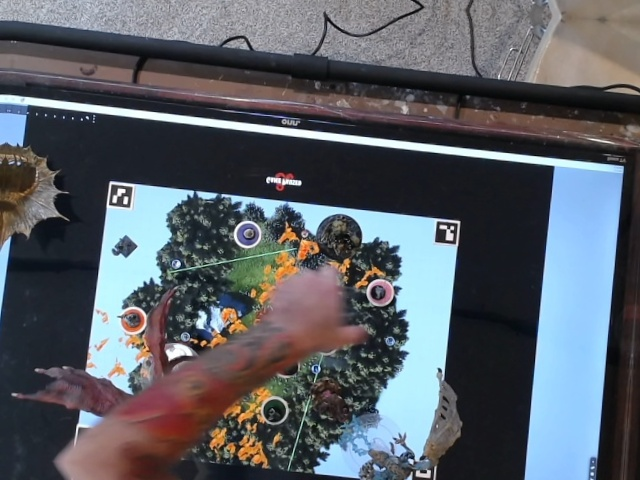green: (260, 386, 295, 428)
orange: (112, 295, 154, 338)
pink: (360, 276, 397, 309)
red: (271, 346, 308, 382)
violet: (232, 214, 264, 252)
